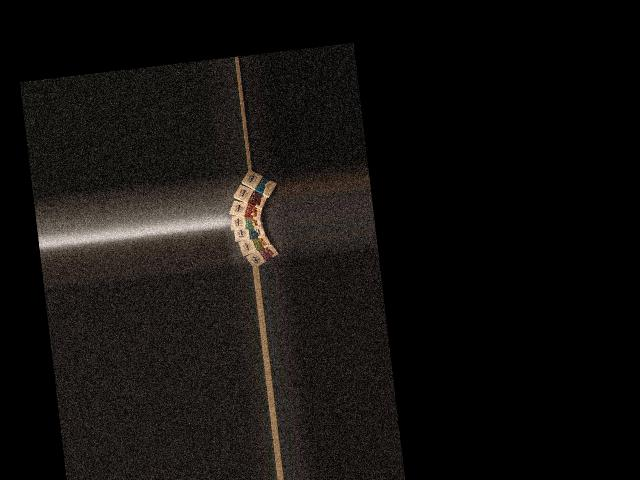chocolate: (239, 168, 280, 200)
